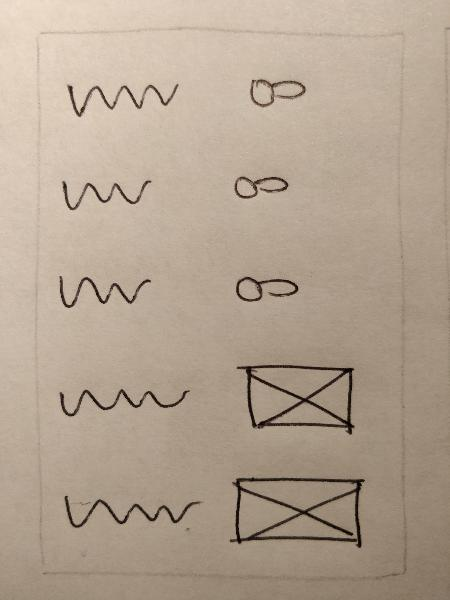image: (221, 467, 372, 556), (227, 352, 371, 442)
switch: (219, 161, 303, 209), (229, 265, 307, 310), (245, 68, 314, 112)
text: (55, 484, 210, 542), (49, 376, 207, 425), (53, 165, 161, 227), (62, 74, 185, 124), (53, 264, 157, 314)
